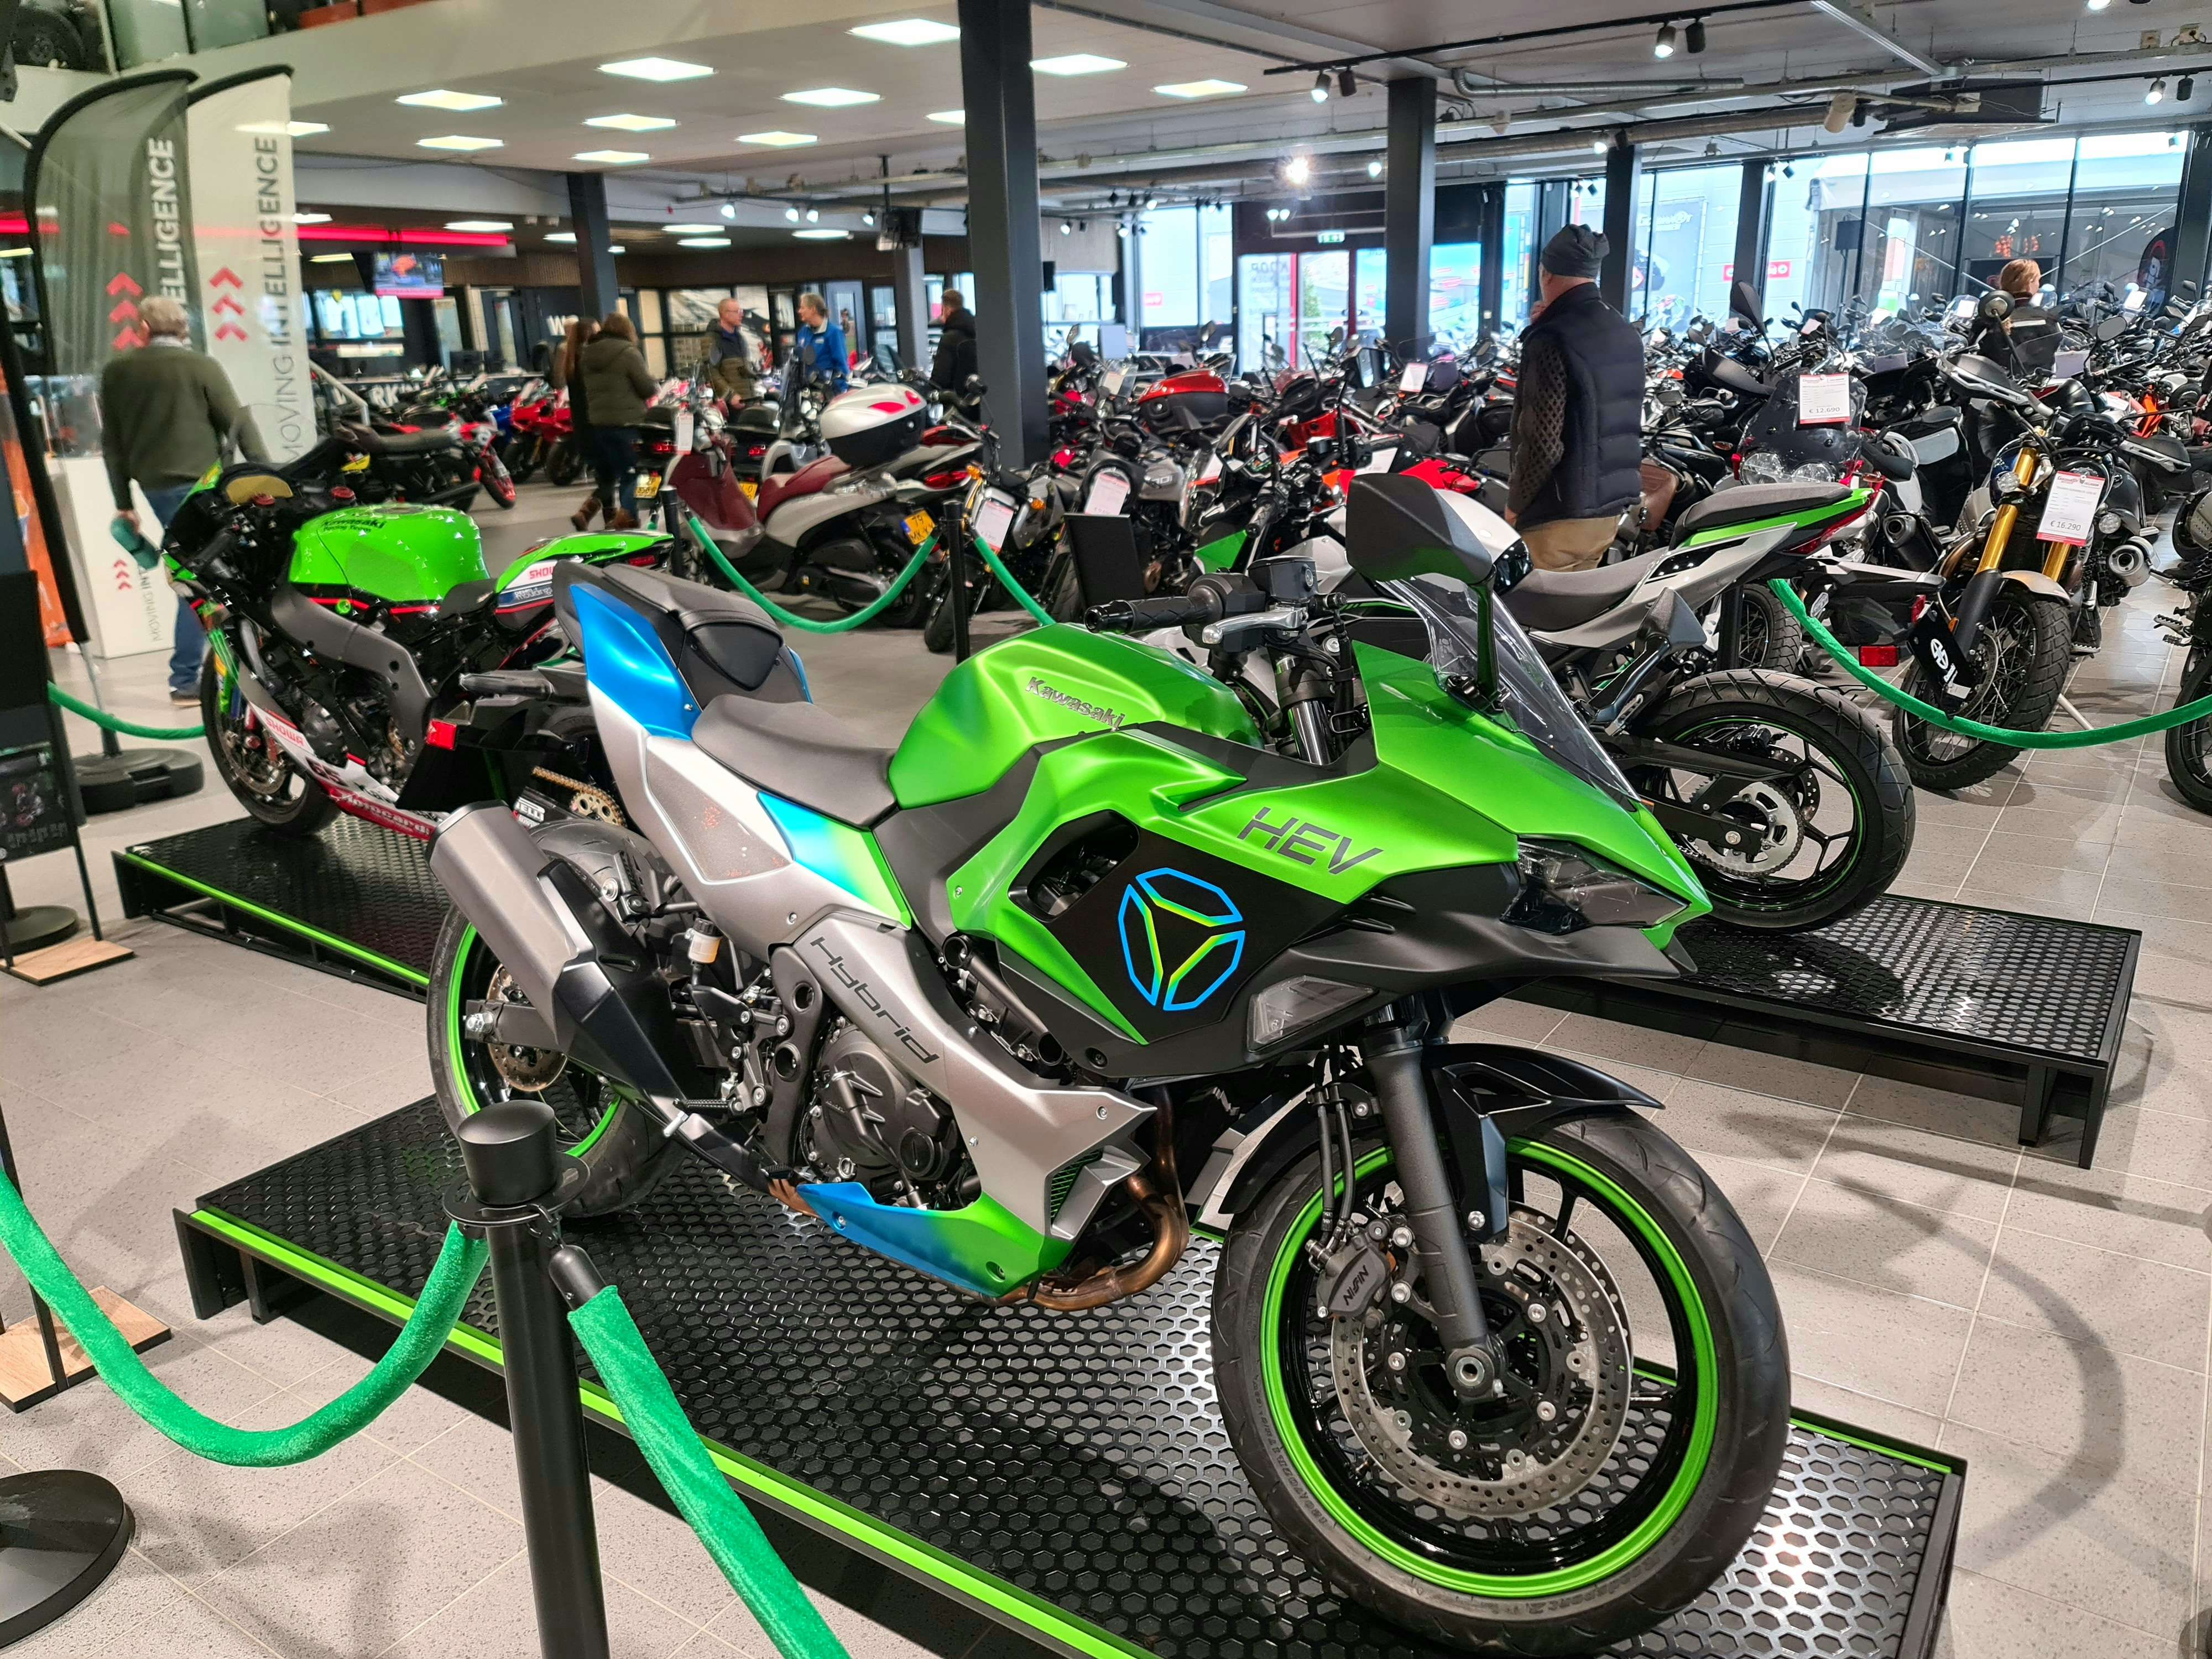motorcycle: (423, 533, 1799, 1652)
